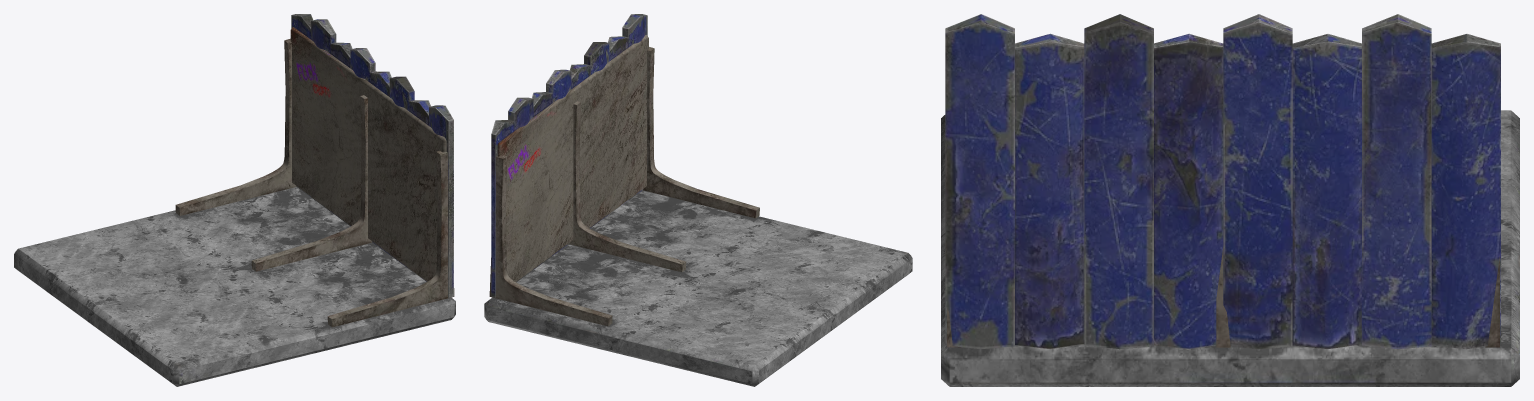
The model's file is fence.glb.
3 renders of one model, left to right at view 1: azimuth 30°, elevation 25°; view 2: azimuth 150°, elevation 25°; view 3: azimuth 270°, elevation 25°, orthographic. The views are drawn at different scales.
Parts seen in each view (by area): view 1: Cube_0; view 2: Cube_0; view 3: Cube_0.
Part boxes in pixels (x1=…): Cube_0: x1=14, y1=14, x2=455, y2=386; Cube_0: x1=484, y1=14, x2=912, y2=386; Cube_0: x1=941, y1=14, x2=1519, y2=386.
Size of the model in its own units: 2.01 by 1.4 by 2.
Materials: 1 (1 with a texture image).
